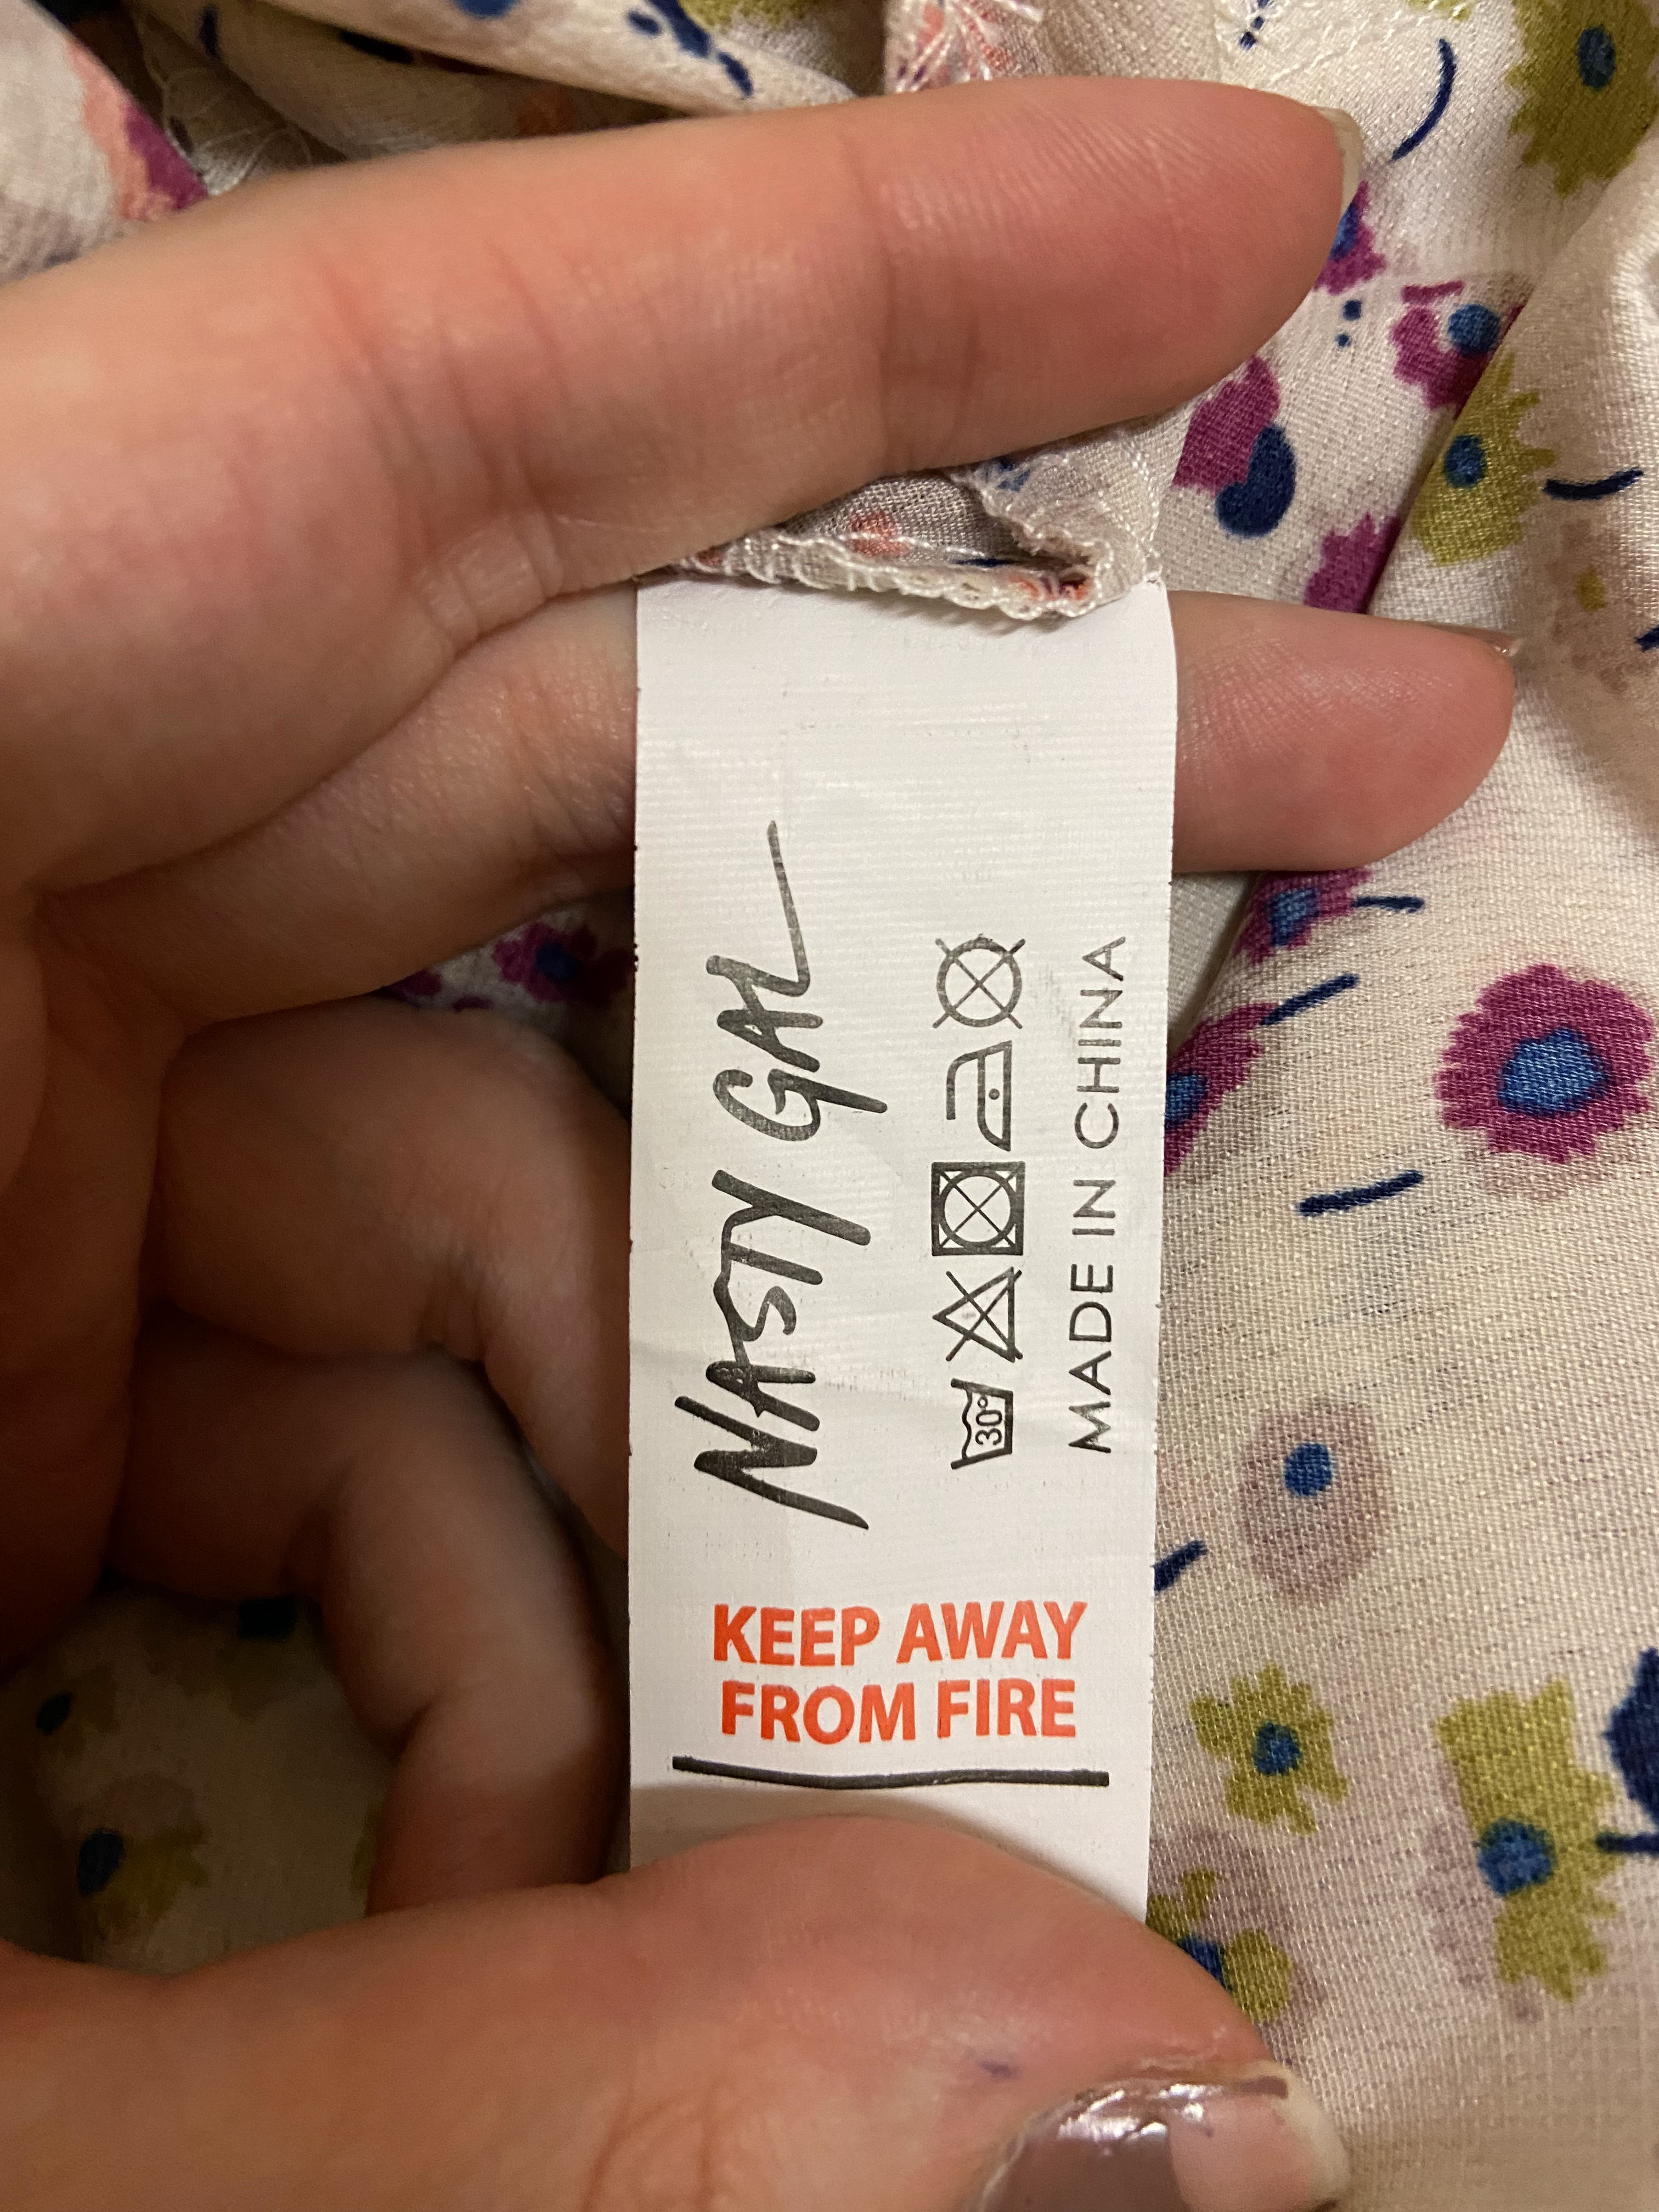do not bleach: (913, 1268, 1035, 1379)
do not dry clean: (911, 916, 1063, 1040)
do not tumble dry: (897, 1143, 1051, 1268)
iron low temp: (897, 1029, 1051, 1162)
wash at or below 30: (913, 1362, 1047, 1486)
